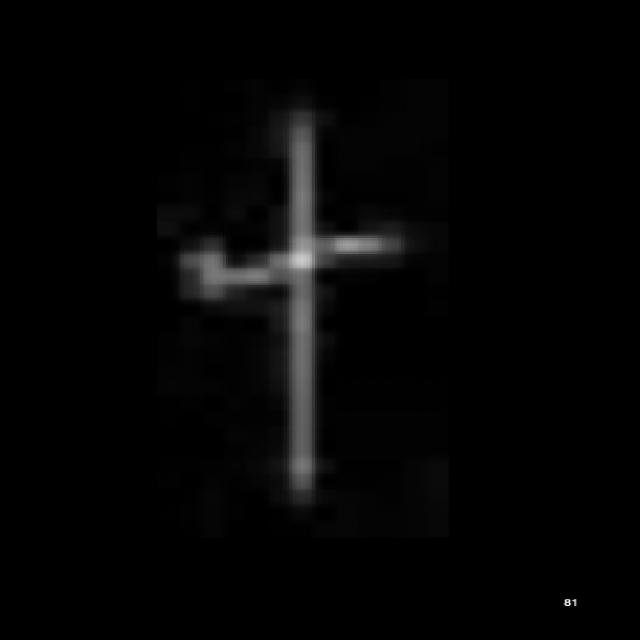10 -ten-: (178, 99, 408, 506)
